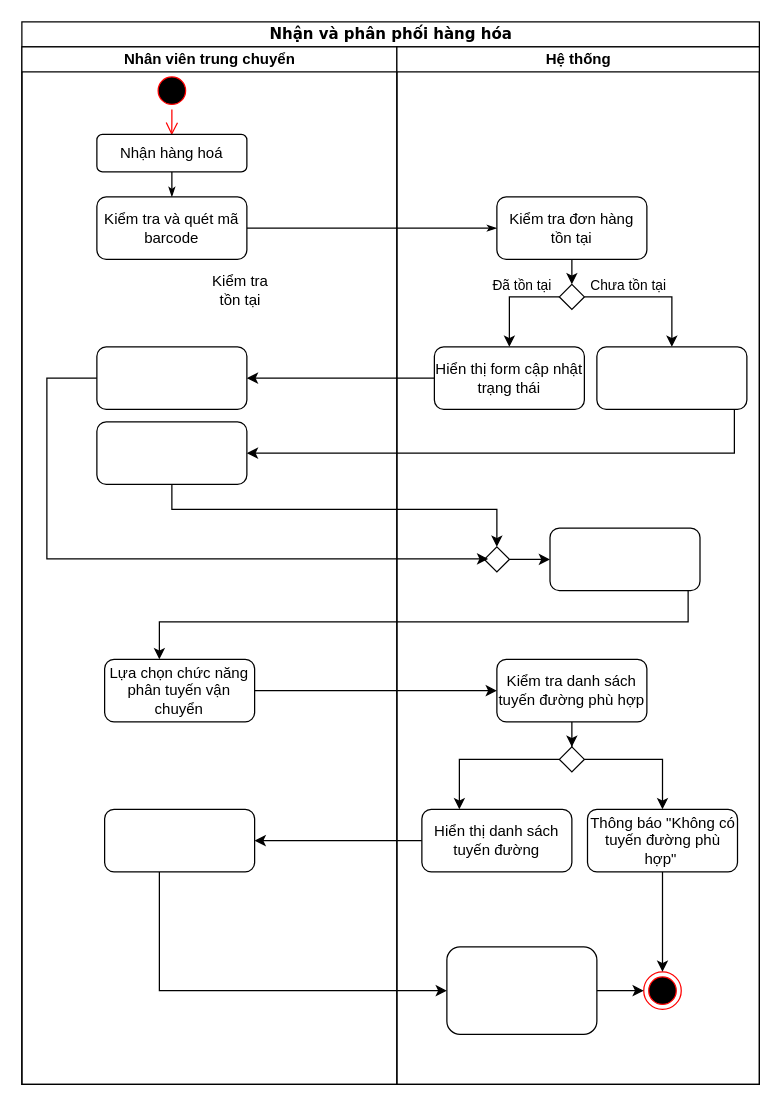
This 781x1106 diagram has some shape labels left out. The centre of each missing label's shape, as x and y in pixels:
Cập nhật trạng thái đơn hàng: point 171,377
Cập nhật tuyến đường cho đơn hàng, thông báo "Phân tuyến thành công": point 521,990
Hiển thị form thêm đơn hàng: point 671,377
Lưu thông tin: point 624,559
Lựa chọn tuyến đường: point 179,840
Thêm thông tin đơn hàng: point 171,452
